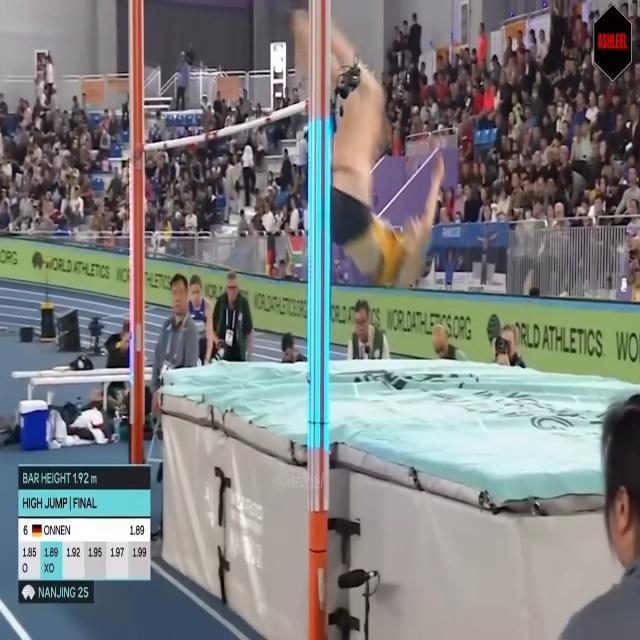land: (282, 0, 446, 291)
